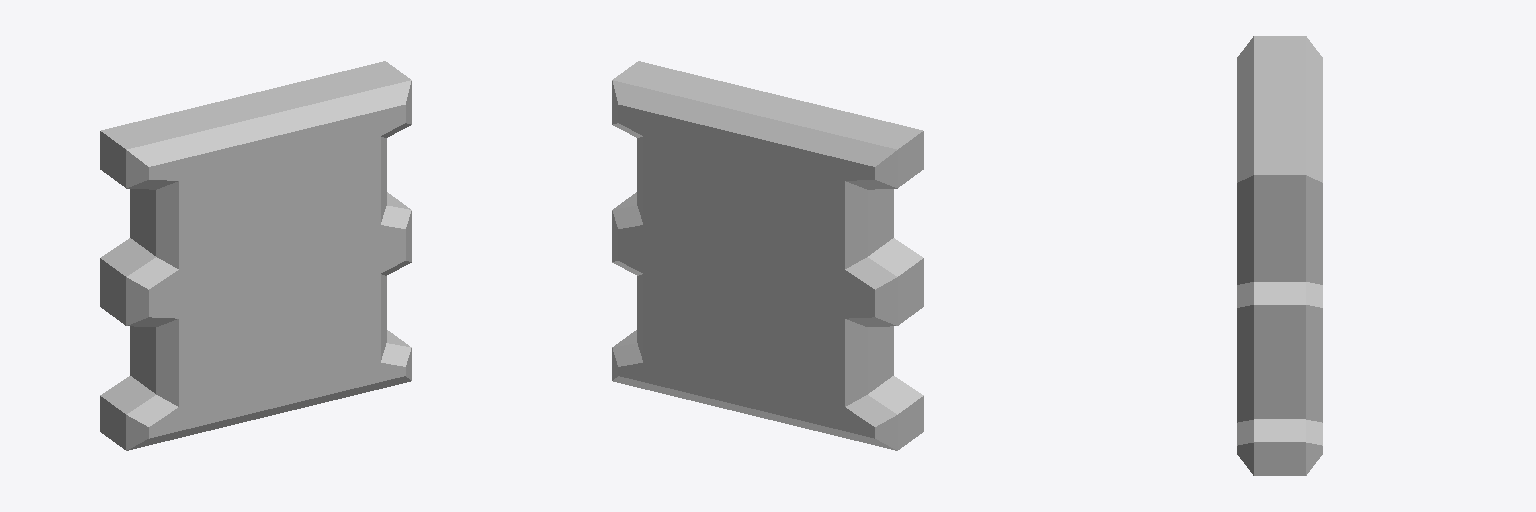
Rendered from 温湿度传感器.obj.
The picture shows the model from 3 angles: view 1: azimuth 30°, elevation 25°; view 2: azimuth 150°, elevation 25°; view 3: azimuth 270°, elevation 25°; orthographic projection.
Parts seen in each view (by area): view 1: Box003; view 2: Box003; view 3: Box003.
Part boxes in pixels (x1,y1,x2,y2): Box003: (100, 61, 411, 450); Box003: (612, 61, 923, 450); Box003: (1237, 36, 1322, 475).
Bounding box in the file's own units: 20.07 × 20.25 × 5.18.